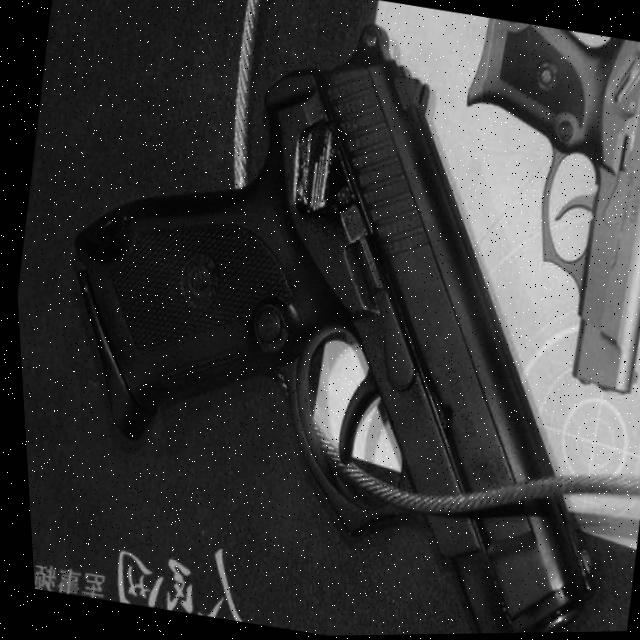pistol: (1, 0, 640, 640), (414, 15, 640, 405)
